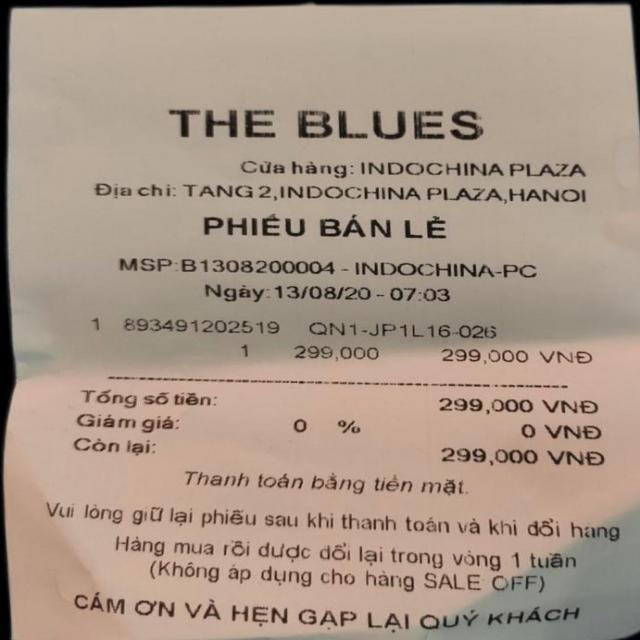Date: (270, 280, 375, 307)
Store_Name: (170, 100, 488, 150)
amount_number: (439, 440, 542, 470)
label_total: (71, 436, 155, 458)
